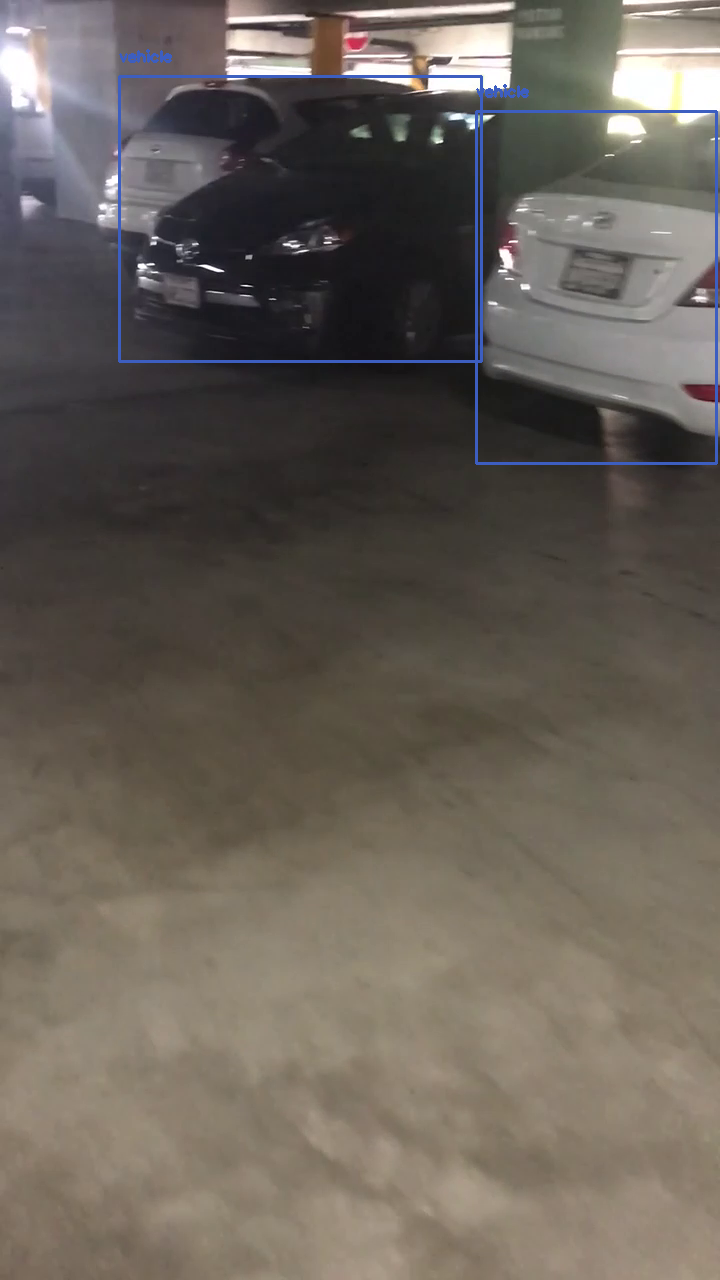vehicle: (119, 76, 481, 361), (476, 111, 716, 463)
